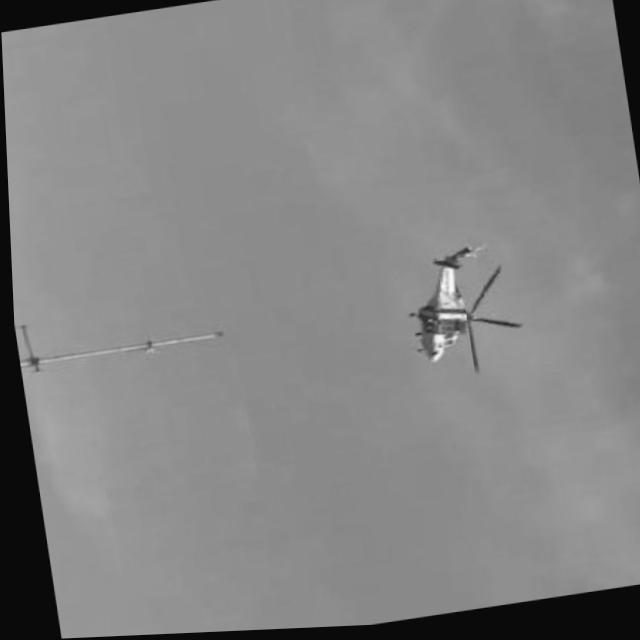helikopter: (395, 242, 523, 382)
